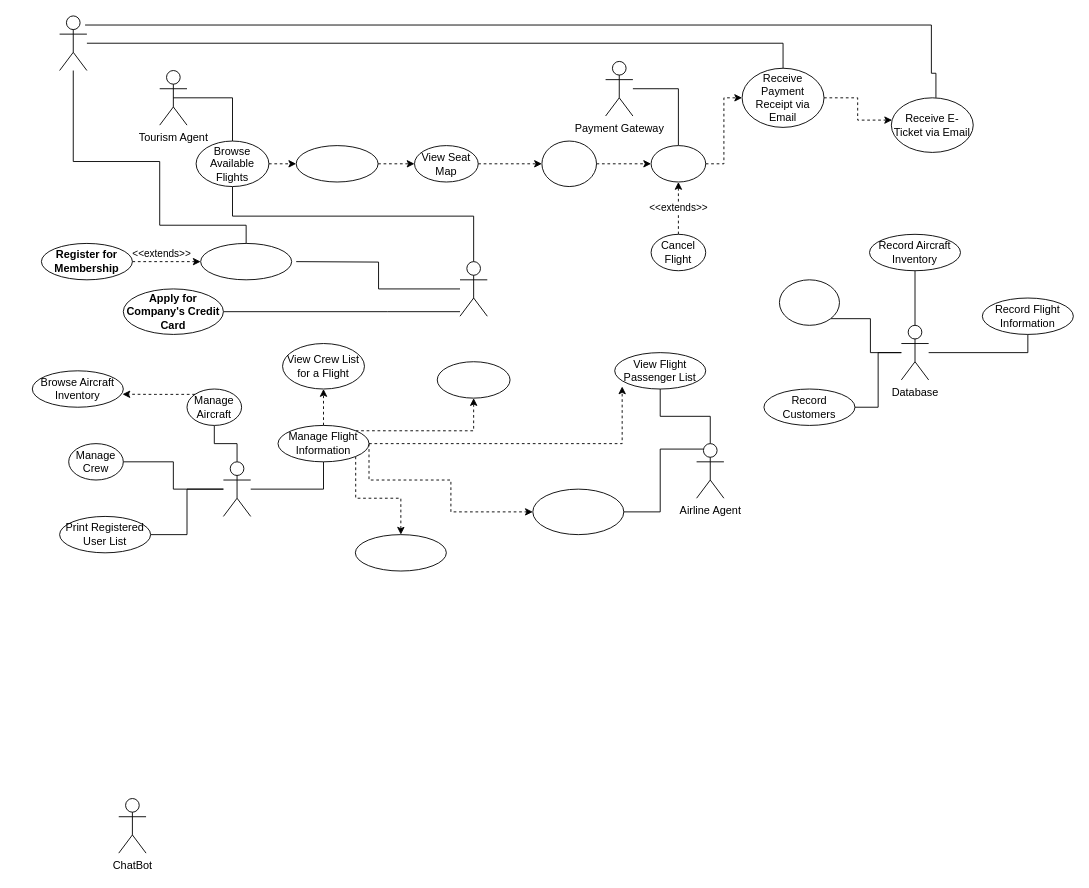
The diagram is 1089 pixels wide and 888 high, and some of its shapes have lost their labels. The shapes that lost their labels are listed below. From the top down, each one's centre as x and y in pixels, then its label:
At point (73, 43): "Communication System".
At point (336, 163): "Select Desired Flight".
At point (569, 163): "Apply for Add-ons".
At point (678, 163): "Make Payment".
At point (246, 261): "Receive Monthly Promotions".
At point (473, 288): "Customer".
At point (809, 302): "Record Employees".
At point (473, 379): "View Flights by Date".
At point (236, 488): "Admin".
At point (578, 511): "Browse and Manage Reservations".
At point (400, 552): "Manage Flight Destination".
